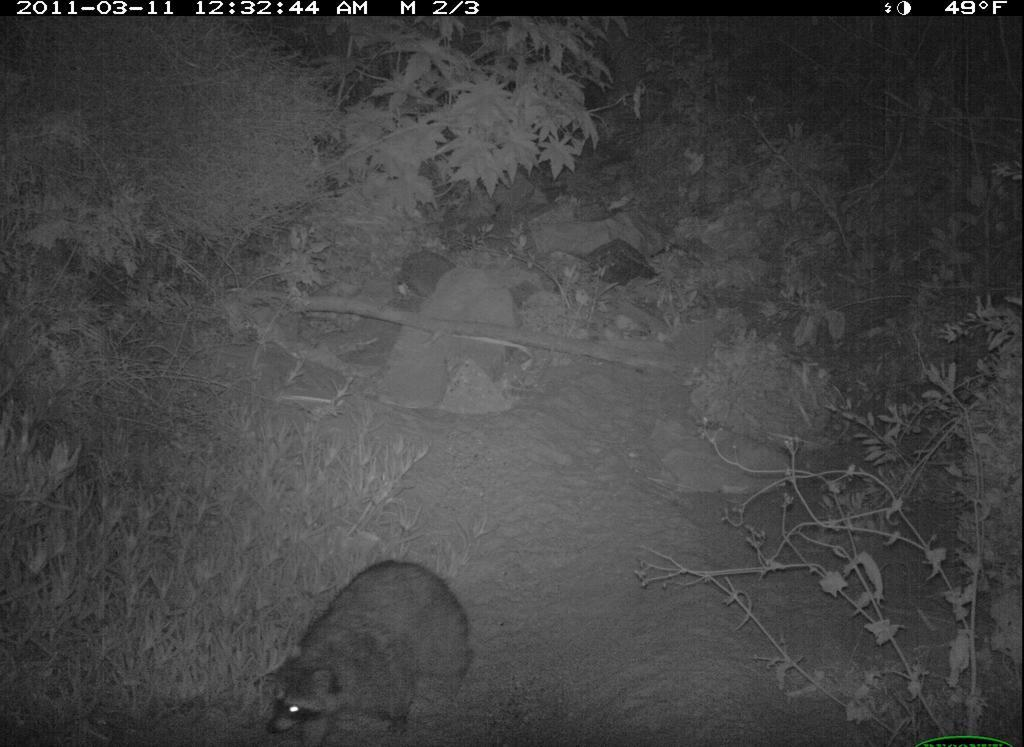raccoon: (244, 545, 482, 743)
